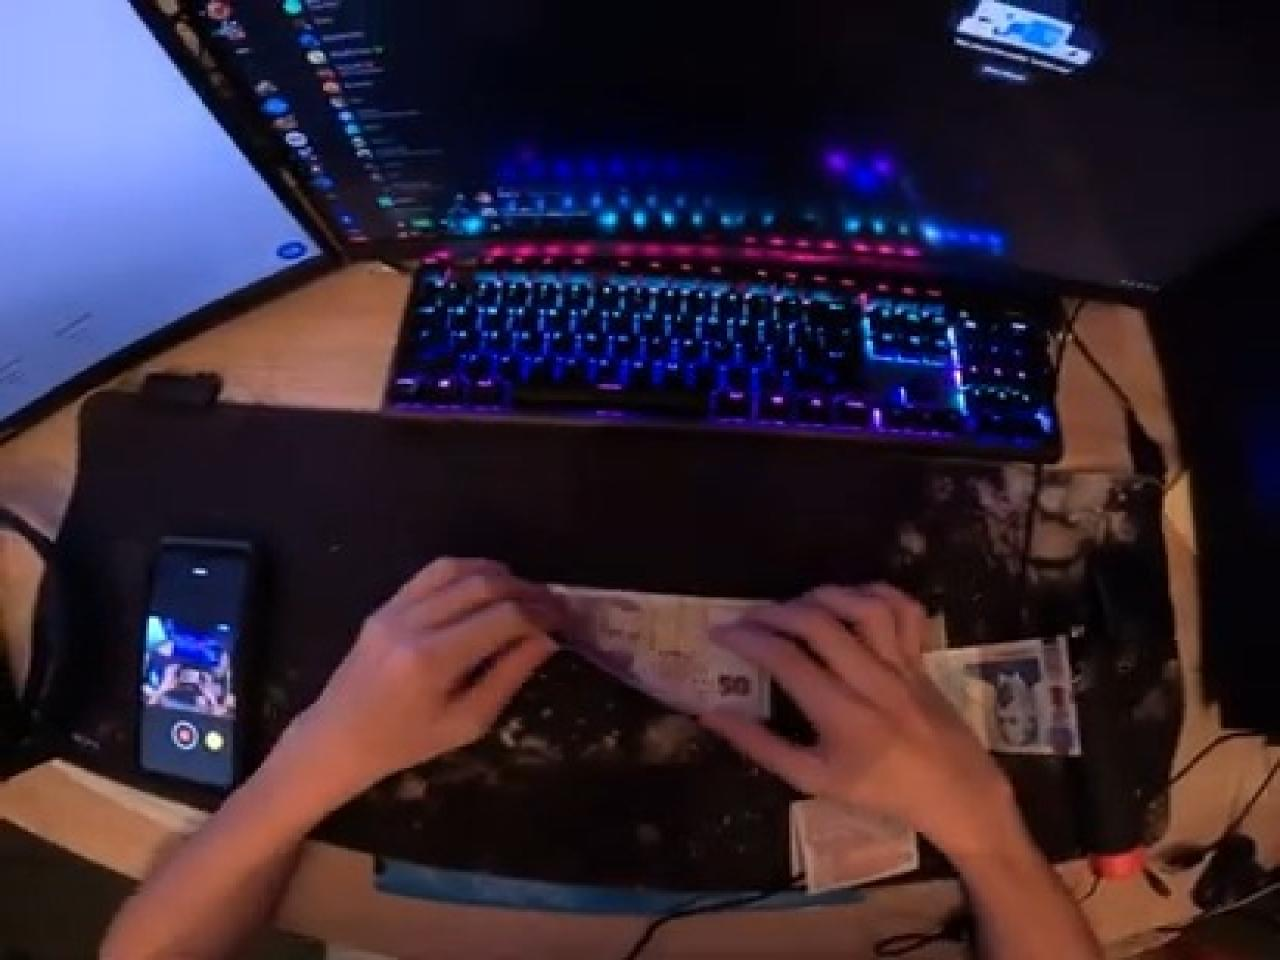50leva: (479, 571, 817, 749)
